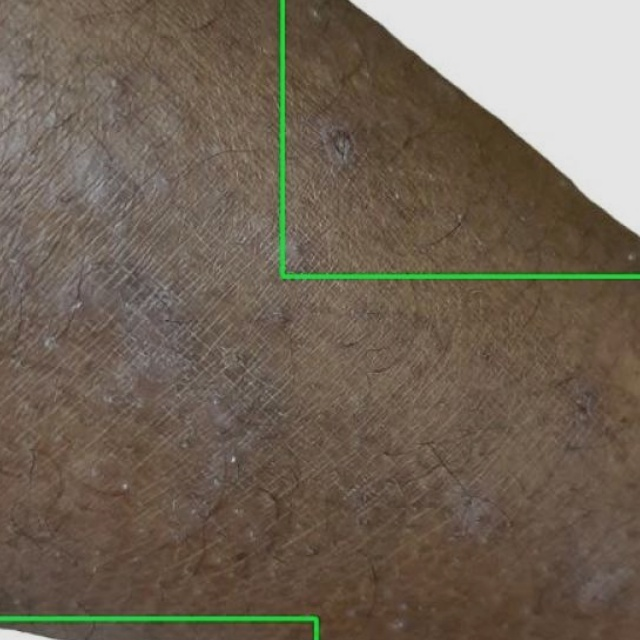Scabies: (281, 0, 639, 277)
